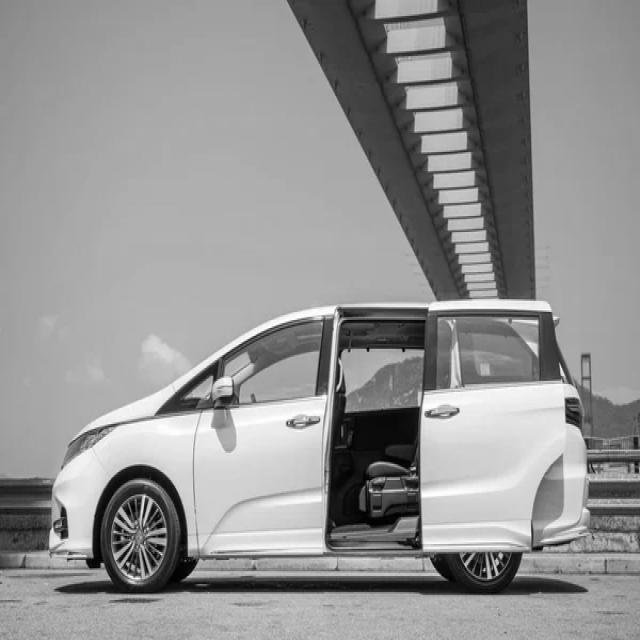Car: (49, 302, 590, 593)
